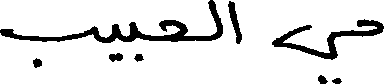ا: (226, 0, 240, 44)
ب: (0, 23, 96, 67), (127, 20, 142, 62)
ح: (160, 17, 184, 41), (356, 17, 382, 38)
ل: (207, 0, 223, 42)
ي: (272, 22, 334, 82), (106, 21, 120, 61)
